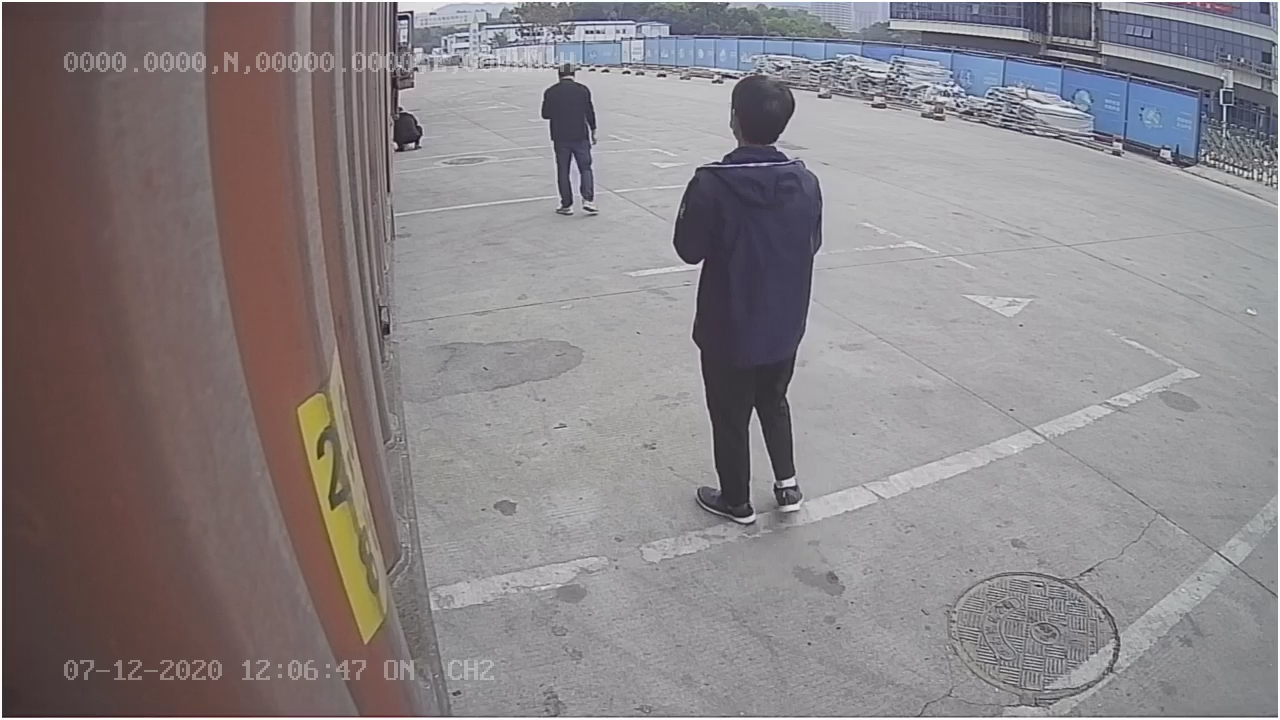person: (675, 70, 827, 530)
